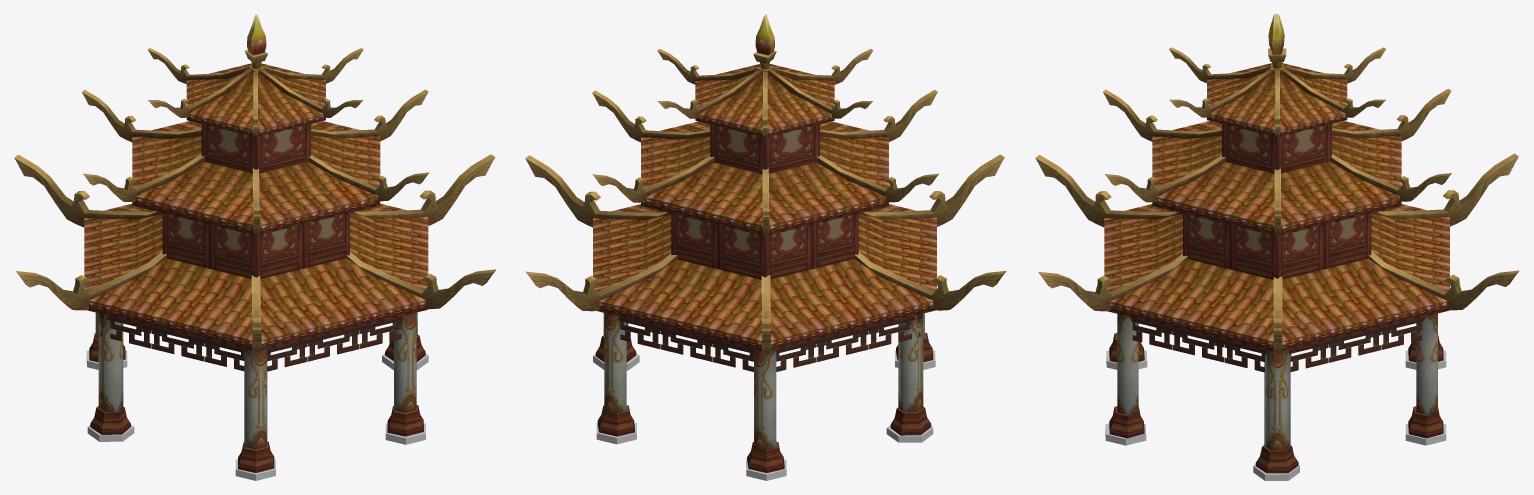
Rendered from environment_Building_zhucheng_jianzhu_001_g.FBX.
3 views of the same model, side by side, from view 1: azimuth 30°, elevation 25°; view 2: azimuth 150°, elevation 25°; view 3: azimuth 270°, elevation 25° (orthographic).
Parts seen in each view (by area): view 1: environment_Building_zhucheng_jianzhu_001_g02, environment_Building_zhucheng_jianzhu_001_g01, environment_Building_zhucheng_jianzhu_001_g05, environment_Building_zhucheng_jianzhu_001_g06, environment_Building_zhucheng_jianzhu_001_g04, environment_Building_zhucheng_jianzhu_001_g07, environment_Building_zhucheng_jianzhu_001_g03; view 2: environment_Building_zhucheng_jianzhu_001_g02, environment_Building_zhucheng_jianzhu_001_g01, environment_Building_zhucheng_jianzhu_001_g05, environment_Building_zhucheng_jianzhu_001_g06, environment_Building_zhucheng_jianzhu_001_g04, environment_Building_zhucheng_jianzhu_001_g07, environment_Building_zhucheng_jianzhu_001_g03; view 3: environment_Building_zhucheng_jianzhu_001_g02, environment_Building_zhucheng_jianzhu_001_g01, environment_Building_zhucheng_jianzhu_001_g05, environment_Building_zhucheng_jianzhu_001_g06, environment_Building_zhucheng_jianzhu_001_g04, environment_Building_zhucheng_jianzhu_001_g07, environment_Building_zhucheng_jianzhu_001_g03.
Boxes of the visible parts, left/top/right/bottom form: environment_Building_zhucheng_jianzhu_001_g02: left=84, top=63, right=428, bottom=350; environment_Building_zhucheng_jianzhu_001_g01: left=14, top=14, right=496, bottom=353; environment_Building_zhucheng_jianzhu_001_g05: left=89, top=124, right=425, bottom=472; environment_Building_zhucheng_jianzhu_001_g06: left=95, top=217, right=417, bottom=449; environment_Building_zhucheng_jianzhu_001_g04: left=100, top=318, right=401, bottom=371; environment_Building_zhucheng_jianzhu_001_g07: left=86, top=350, right=428, bottom=480; environment_Building_zhucheng_jianzhu_001_g03: left=99, top=313, right=402, bottom=353; environment_Building_zhucheng_jianzhu_001_g02: left=593, top=64, right=936, bottom=351; environment_Building_zhucheng_jianzhu_001_g01: left=525, top=14, right=1006, bottom=354; environment_Building_zhucheng_jianzhu_001_g05: left=595, top=124, right=933, bottom=472; environment_Building_zhucheng_jianzhu_001_g06: left=603, top=218, right=924, bottom=450; environment_Building_zhucheng_jianzhu_001_g04: left=620, top=318, right=920, bottom=371; environment_Building_zhucheng_jianzhu_001_g07: left=593, top=350, right=935, bottom=480; environment_Building_zhucheng_jianzhu_001_g03: left=618, top=314, right=922, bottom=353; environment_Building_zhucheng_jianzhu_001_g02: left=1104, top=63, right=1449, bottom=351; environment_Building_zhucheng_jianzhu_001_g01: left=1035, top=14, right=1519, bottom=353; environment_Building_zhucheng_jianzhu_001_g05: left=1109, top=124, right=1443, bottom=473; environment_Building_zhucheng_jianzhu_001_g06: left=1117, top=221, right=1437, bottom=450; environment_Building_zhucheng_jianzhu_001_g04: left=1132, top=322, right=1421, bottom=372; environment_Building_zhucheng_jianzhu_001_g07: left=1105, top=350, right=1446, bottom=480; environment_Building_zhucheng_jianzhu_001_g03: left=1131, top=317, right=1423, bottom=354.
Size of the model in its own units: 2376 by 1826 by 2081.
